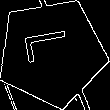L_E: (24, 33, 80, 72)
